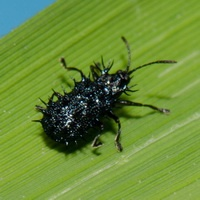insect: (33, 36, 175, 151)
